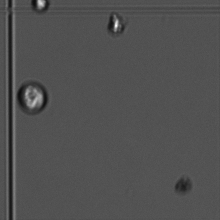Dead Cell: (169, 174, 198, 197)
Living Cell: (14, 78, 49, 116), (105, 10, 127, 36), (28, 1, 54, 15)
